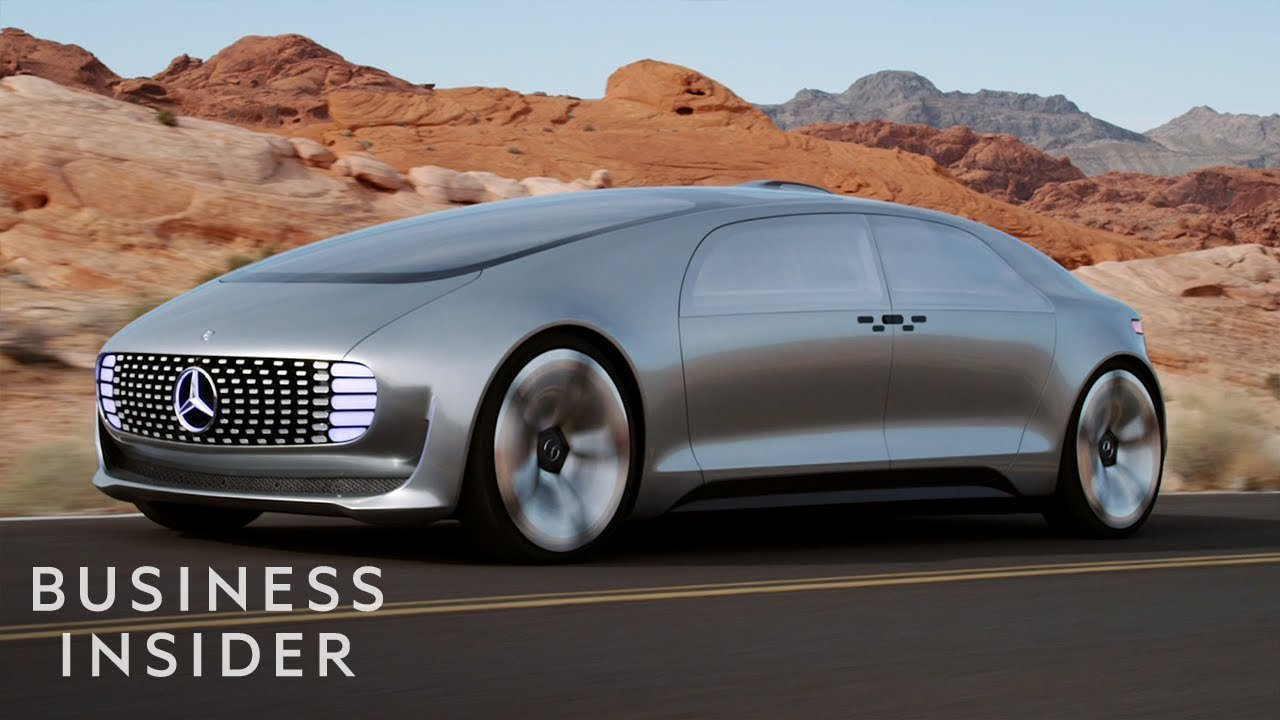car: (91, 174, 1166, 554)
